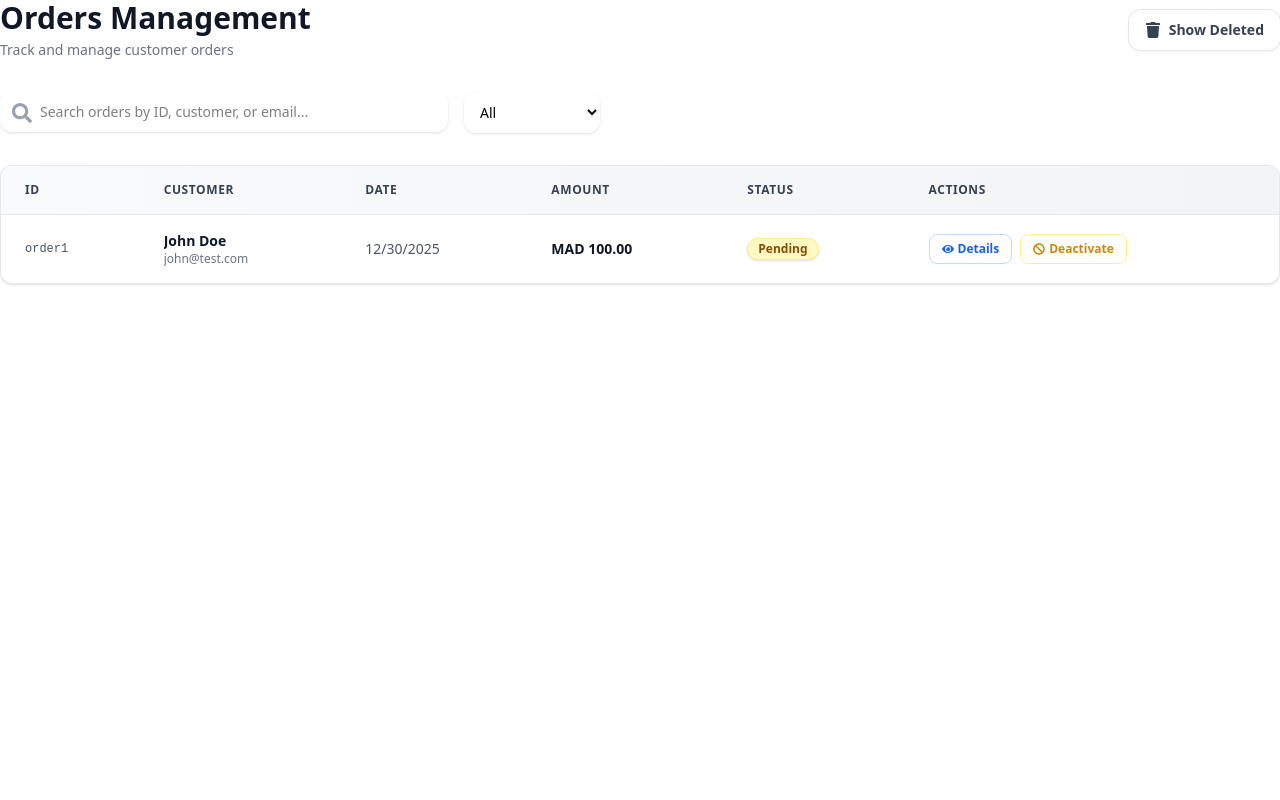
Scenario: AdminOrders › opens order details modal
Click the button "Details" at {"x": 970, "y": 249}, box [928, 234, 1012, 264]
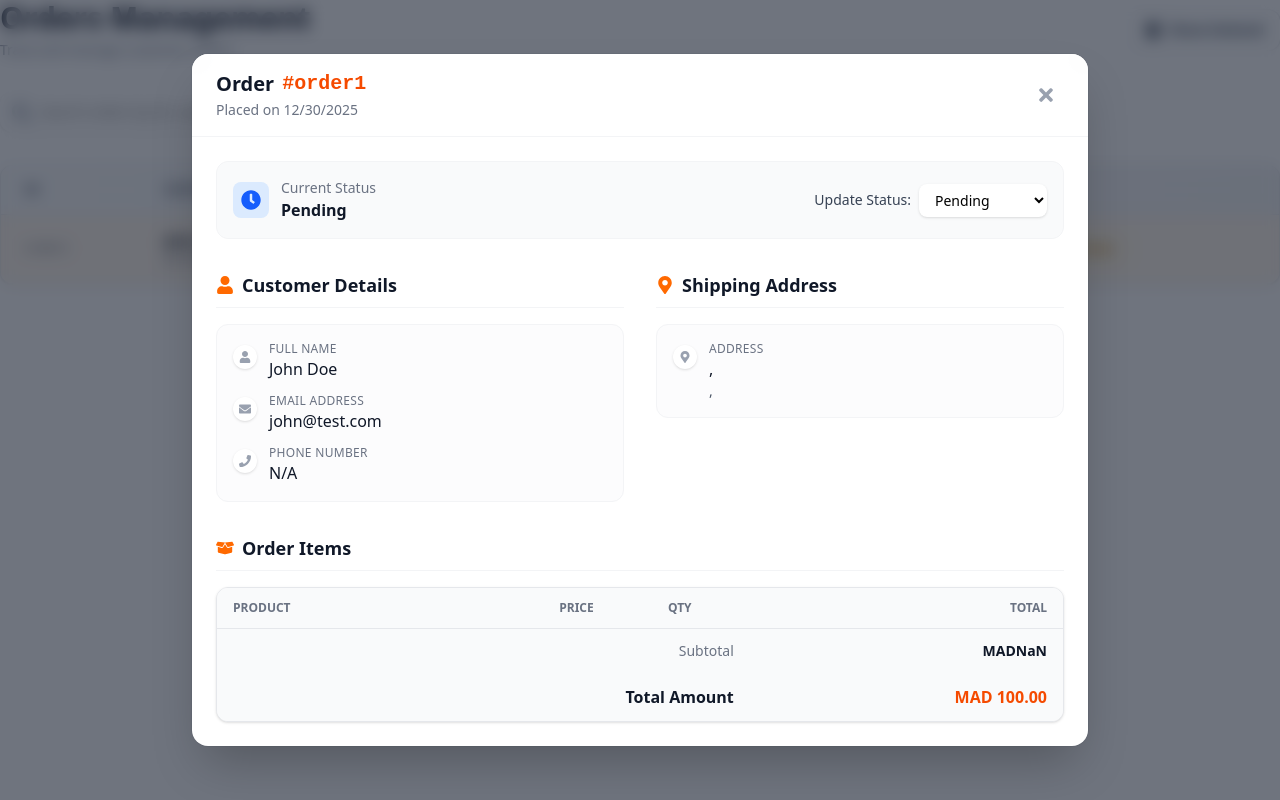
Expected: the heading "Customer Details" is shown, [216, 271, 624, 308]
